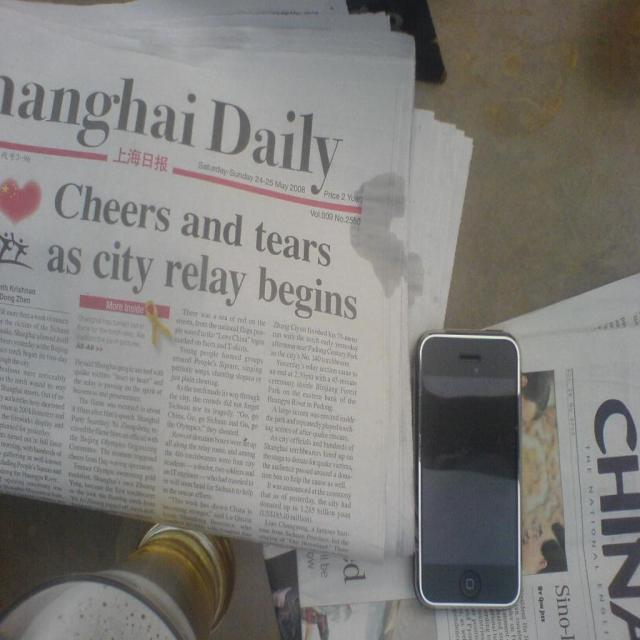Mobile-phone: (410, 327, 530, 619)
